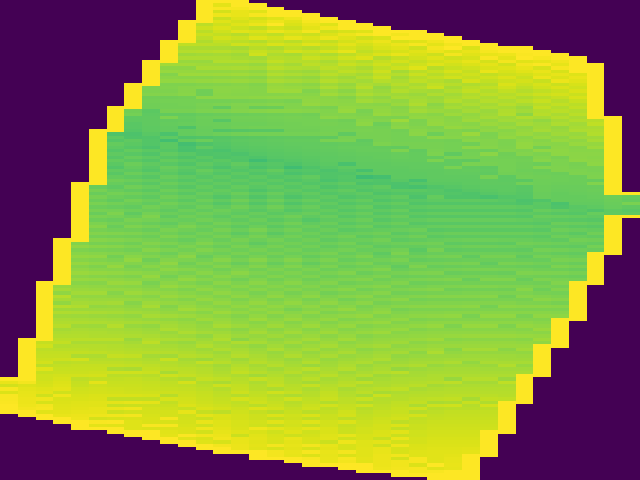cube: (3, 2, 640, 480)
